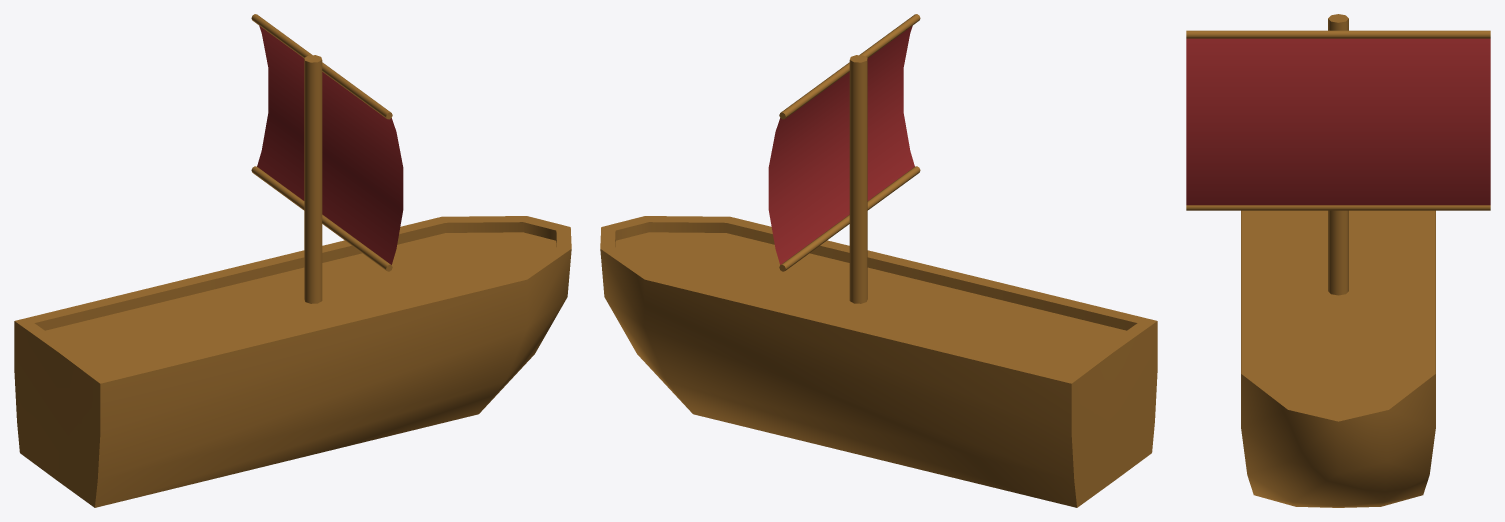
Rendered from testEnemy.fbx.
The picture shows the model from 3 angles, left to right: view 1: azimuth 30°, elevation 25°; view 2: azimuth 150°, elevation 25°; view 3: azimuth 270°, elevation 25°; orthographic projection. The views are drawn at different scales.
Visible parts, largest first — view 1: enemyBasic; view 2: enemyBasic; view 3: enemyBasic.
Boxes of the visible parts, x1,y1,x2,y2 form: enemyBasic: (14,14,571,507); enemyBasic: (600,14,1157,507); enemyBasic: (1186,14,1490,507).
Bounding box in the file's own units: 107 × 71.42 × 48.51.
